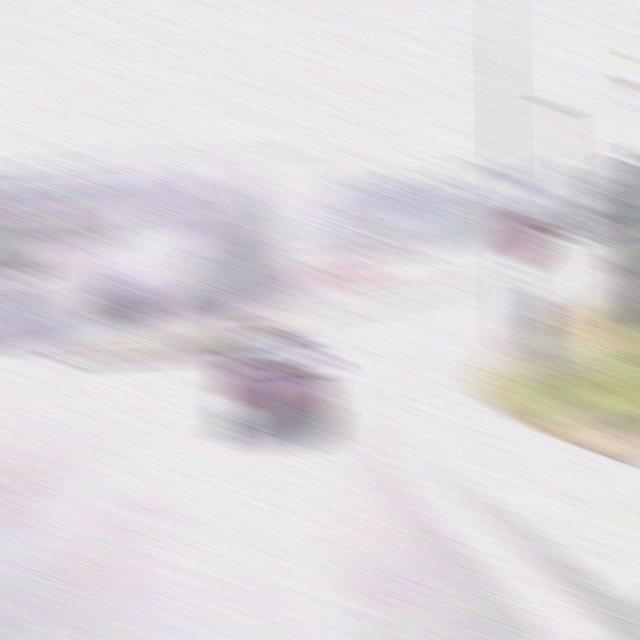stop_sign: (496, 208, 550, 268)
